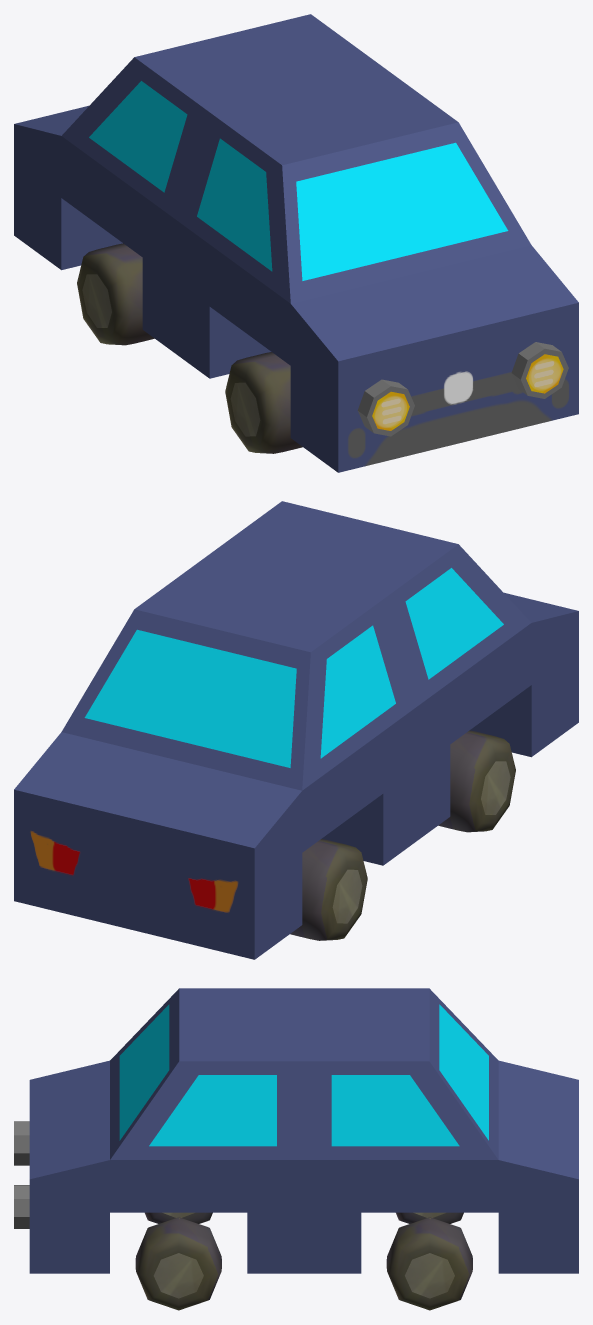
Rendered from Car01.fbx.
3 renders of one model, top to bottom at view 1: azimuth 30°, elevation 25°; view 2: azimuth 150°, elevation 25°; view 3: azimuth 270°, elevation 25°, orthographic. The views are drawn at different scales.
Parts seen in each view (by area): view 1: Body, TireBack, TireFront, Light; view 2: Body, TireFront, TireBack; view 3: Body, TireFront, TireBack, Light.
Boxes of the visible parts, x1=… form: Body: x1=14, y1=14, x2=578, y2=472; TireBack: x1=77, y1=243, x2=154, y2=345; TireFront: x1=225, y1=352, x2=302, y2=453; Light: x1=357, y1=342, x2=568, y2=436; Body: x1=14, y1=501, x2=578, y2=959; TireFront: x1=438, y1=730, x2=515, y2=832; TireBack: x1=290, y1=839, x2=367, y2=940; Body: x1=29, y1=988, x2=578, y2=1273; TireFront: x1=135, y1=1212, x2=221, y2=1310; TireBack: x1=386, y1=1212, x2=472, y2=1310; Light: x1=14, y1=1121, x2=29, y2=1228.
Bounding box in the file's own units: 1.56 × 1.68 × 3.6.
Materials: 3 (2 with a texture image).
